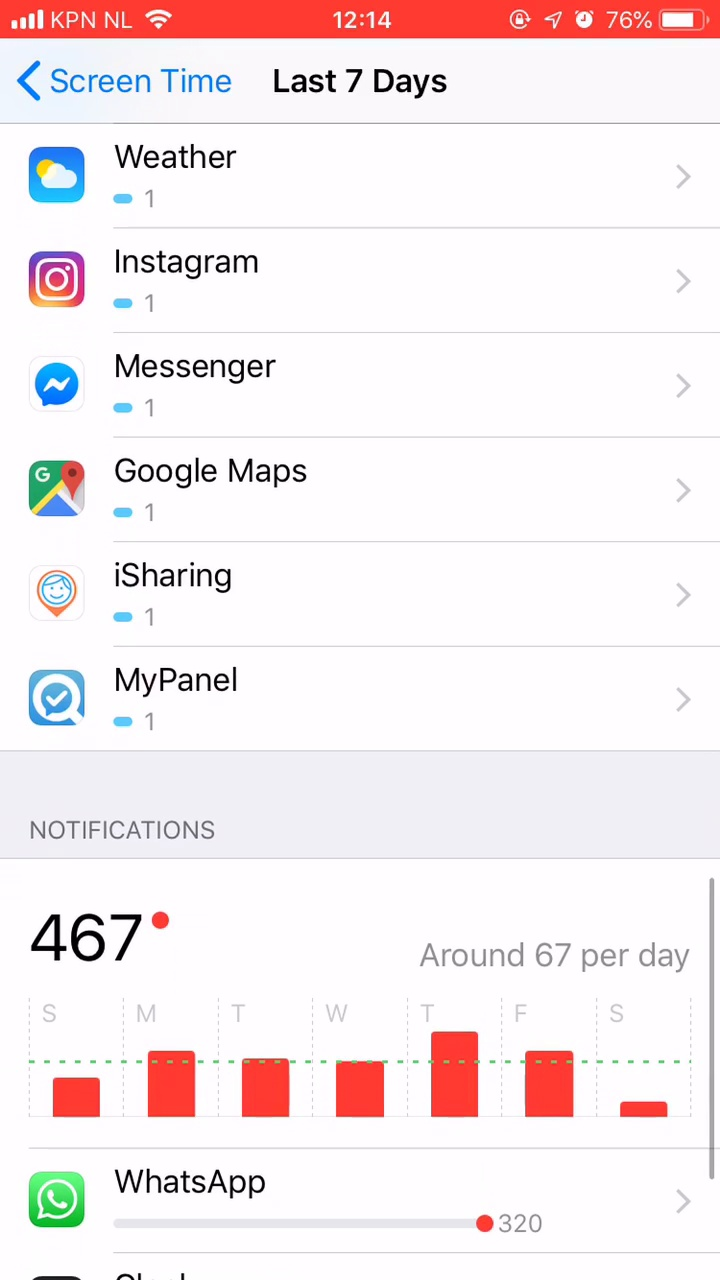not_app: (15, 1150, 598, 1252)
not_over: (18, 783, 301, 983)
pick_app: (21, 546, 409, 650), (25, 438, 396, 541), (21, 644, 411, 741), (18, 338, 396, 436), (9, 128, 362, 232), (15, 239, 375, 333)
week: (252, 50, 458, 109)
